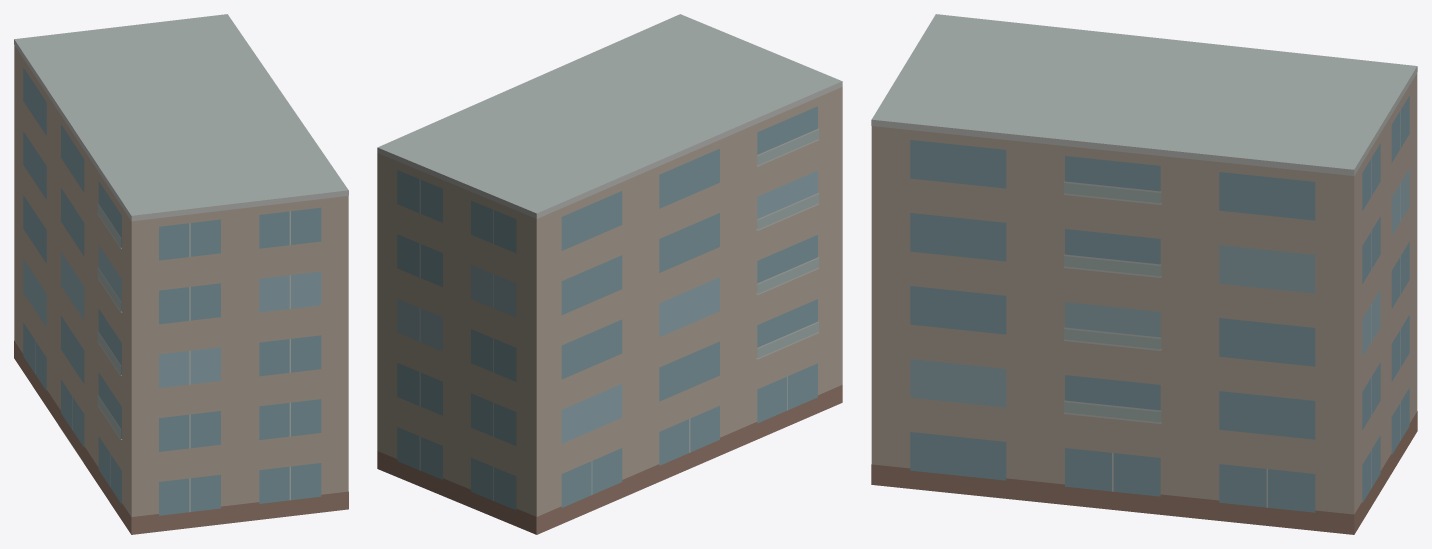
Rendered from survey-upis-32872297.glb.
The picture shows the model from 3 angles, left to right: view 1: azimuth 30°, elevation 25°; view 2: azimuth 150°, elevation 25°; view 3: azimuth 270°, elevation 25°; orthographic projection. The views are drawn at different scales.
Visible parts, largest first — view 1: survey-upis-32872297.tmp; view 2: survey-upis-32872297.tmp; view 3: survey-upis-32872297.tmp.
Boxes of the visible parts, bbox=[...] form: survey-upis-32872297.tmp: bbox=[14, 14, 348, 534]; survey-upis-32872297.tmp: bbox=[377, 14, 842, 534]; survey-upis-32872297.tmp: bbox=[871, 14, 1417, 534].
Size of the model in its own units: 13 by 14.2 by 19.26.
